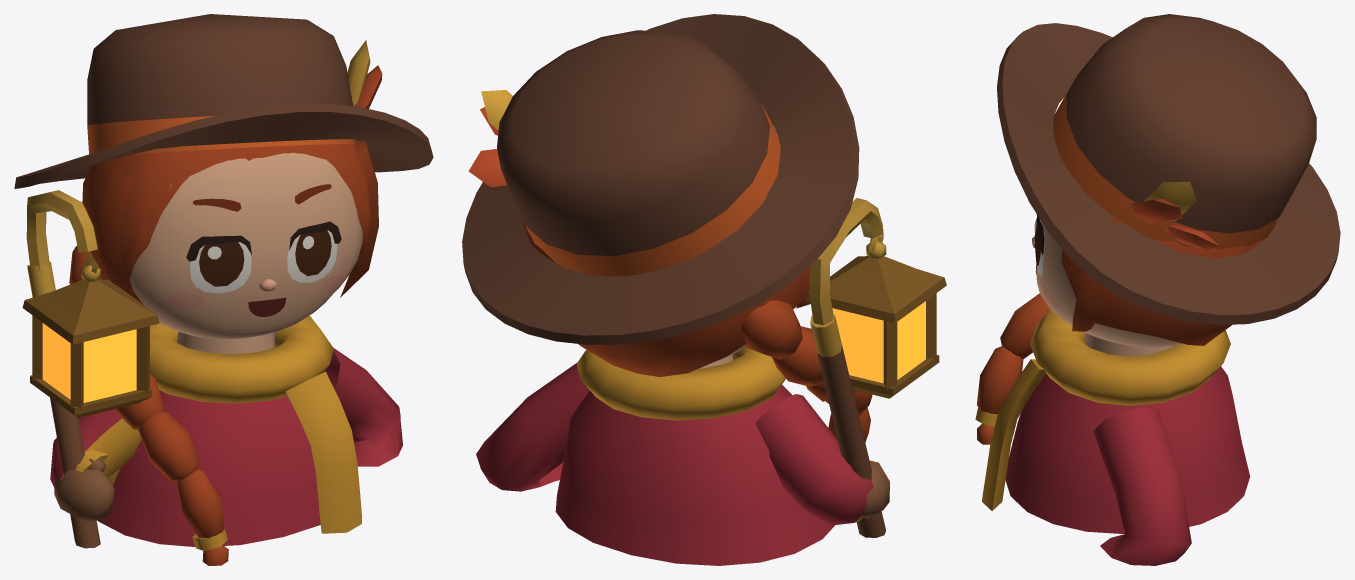
Rendered from lamplighter_bust.glb.
3 renders of one model, left to right at view 1: azimuth 30°, elevation 25°; view 2: azimuth 150°, elevation 25°; view 3: azimuth 270°, elevation 25°, orthographic. The views are drawn at different scales.
Parts seen in each view (by area): view 1: lamplighter_bust; view 2: lamplighter_bust; view 3: lamplighter_bust.
Part boxes in pixels (left/top/right/bottom): lamplighter_bust: left=14, top=14, right=433, bottom=565; lamplighter_bust: left=462, top=14, right=946, bottom=565; lamplighter_bust: left=975, top=14, right=1340, bottom=565.
Bounding box in the file's own units: 0.5702 × 0.6335 × 0.4649.
